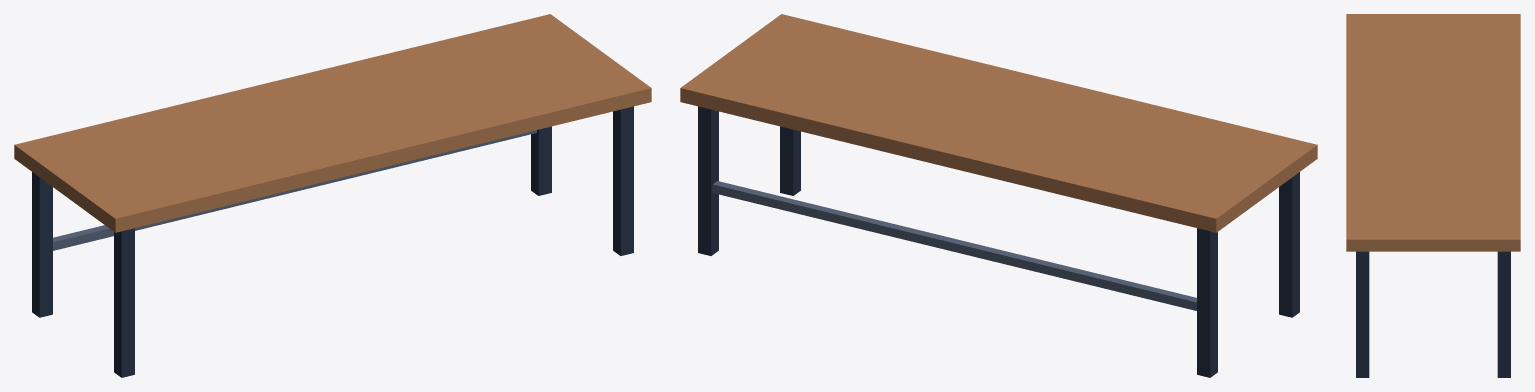
File: officeLongDesk.glb
3 renders of one model, left to right at view 1: azimuth 30°, elevation 25°; view 2: azimuth 150°, elevation 25°; view 3: azimuth 270°, elevation 25°, orthographic. The views are drawn at different scales.
Size of the model in its own units: 2.6 by 0.77 by 0.85.
